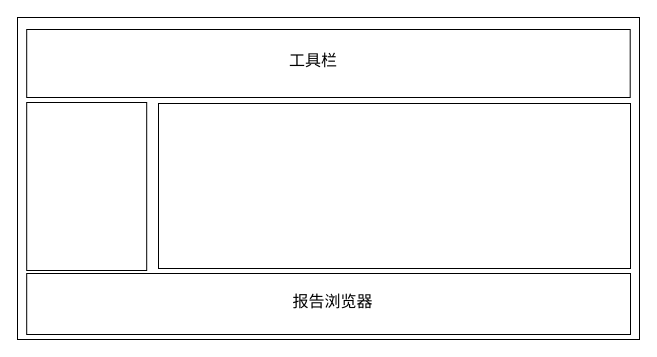
The diagram is 657 pixels wide and 357 high, and some of its shapes have lost their labels. The shapes that lost their labels are listed below. From the top down, each one's centre as x and y in pixels, then its label:
At (86,186): "历史树".
At (394,185): "视图空间".
